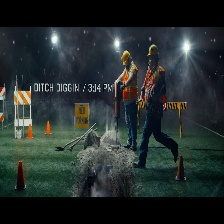helmet: (145, 46, 161, 61), (119, 50, 132, 67)
no-vest: (145, 62, 166, 113), (122, 64, 138, 104)
person: (139, 43, 167, 174), (117, 48, 141, 150)
